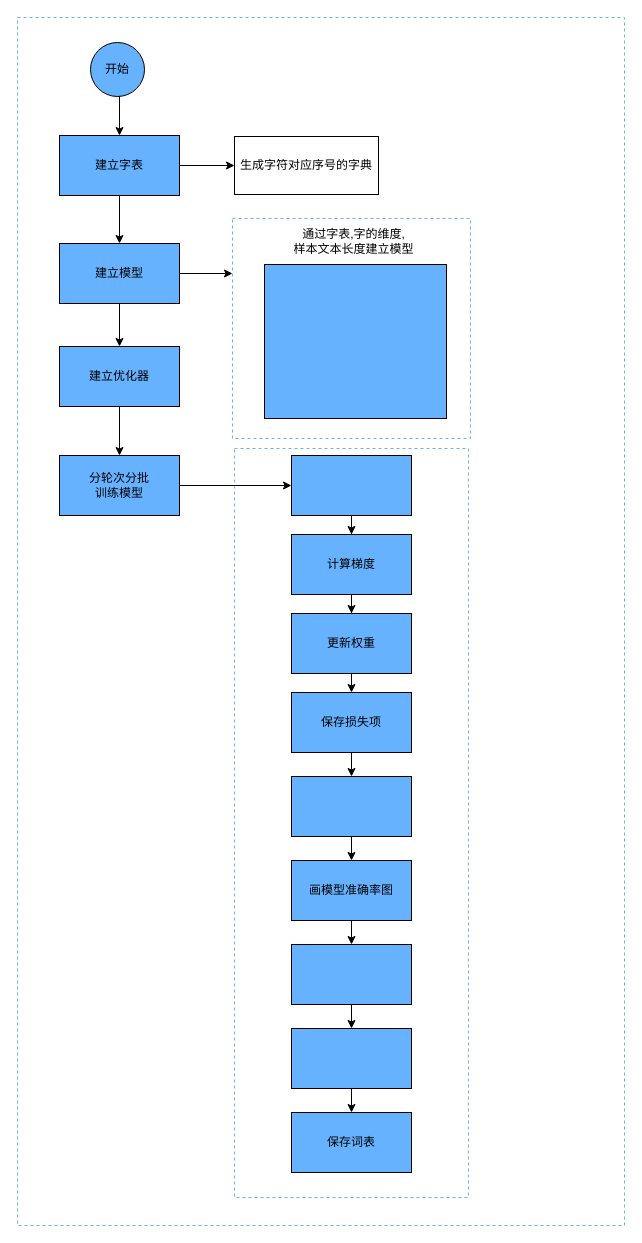
Image size: 642x1243. Some labels were removed from this diagram. Each missing label, with the centre of its shape:
保存模型: (351,1058)
字表,字维度建立embedding层 字的维度建立线性层 样本长度池化维度 初始化激活函数 初始化dropout: (355,341)
建立数据集: (351,485)
测试模型准确率: (351,806)
画模型损失平均值图: (351,974)
